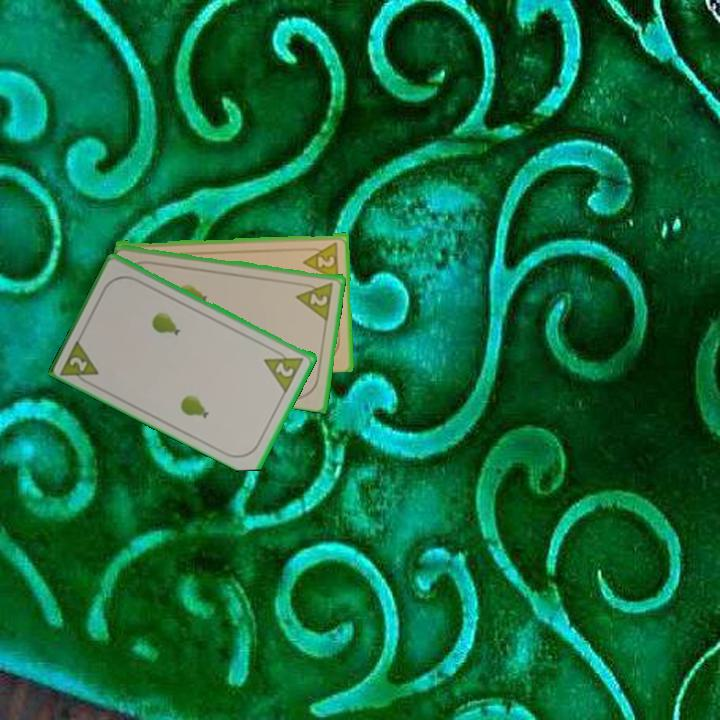2p: (57, 335, 102, 389), (261, 343, 307, 394), (293, 278, 336, 321), (300, 238, 342, 281)
